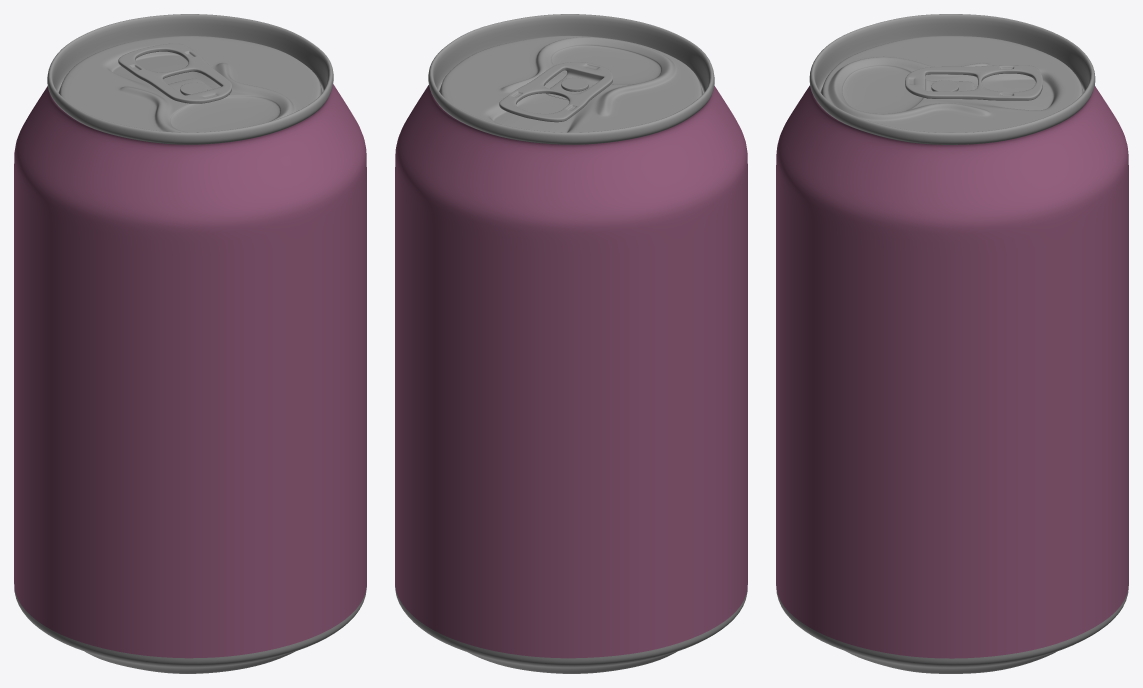
Rendered from can.FBX.
The picture shows the model from 3 angles, left to right: view 1: azimuth 30°, elevation 25°; view 2: azimuth 150°, elevation 25°; view 3: azimuth 270°, elevation 25°; orthographic projection.
Visible parts, largest first — view 1: can; view 2: can; view 3: can.
Boxes of the visible parts, x1,y1,x2,y2 form: can: (14,14,366,673); can: (395,14,747,673); can: (776,14,1128,673).
Size of the model in its own units: 8.32 by 14.18 by 8.3.
